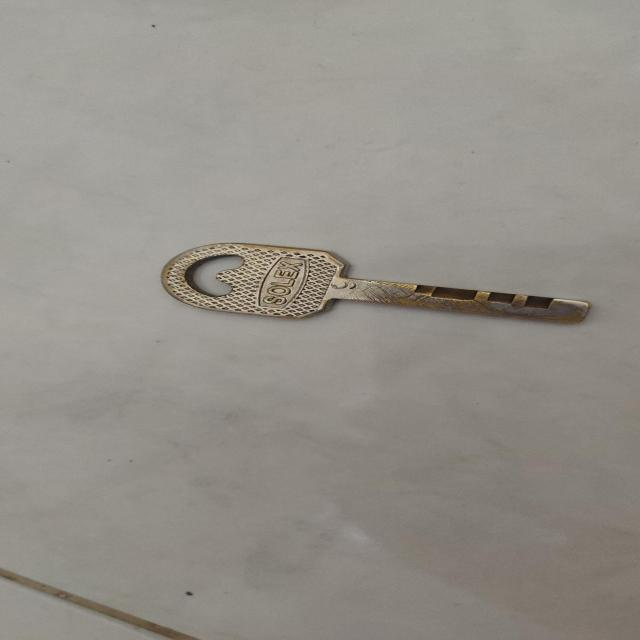kunci_pagar: (140, 226, 615, 344)
